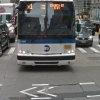Bus: (12, 0, 81, 76)
